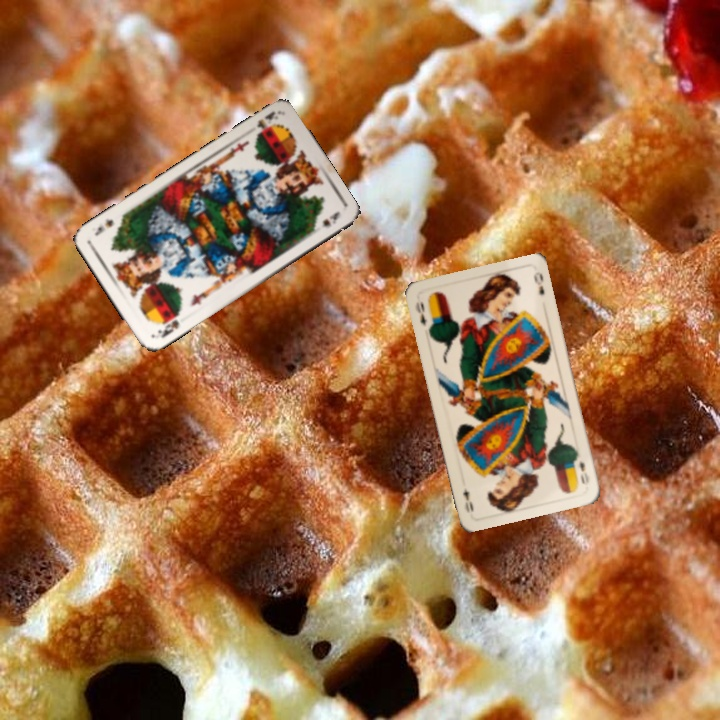EO: (411, 297, 430, 329), (575, 456, 592, 488)
SK: (253, 107, 281, 138), (154, 315, 182, 341)
